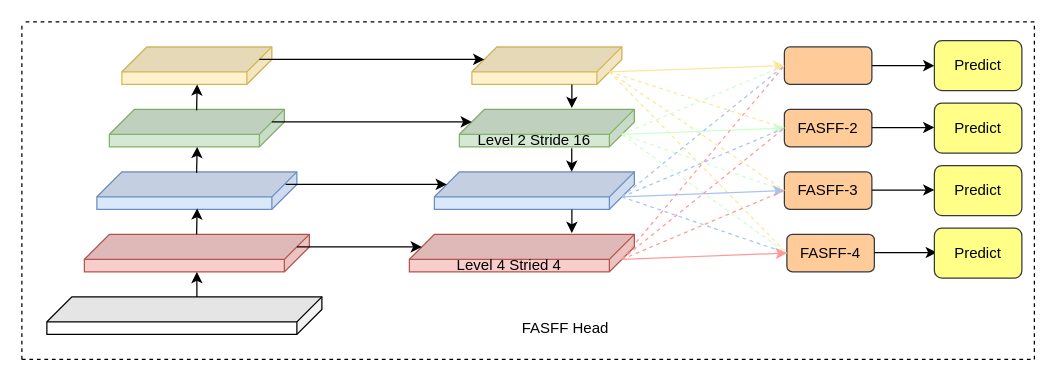
The diagram is 1058 pixels wide and 383 high, and some of its shapes have lost their labels. Each missing label, with the box of its shape:
FASFF-1: (783, 46, 872, 84)
Input: (46, 296, 322, 334)
Leve 1 Stride 32: (471, 46, 622, 84)
Level 3 Stried 8: (433, 171, 634, 209)
